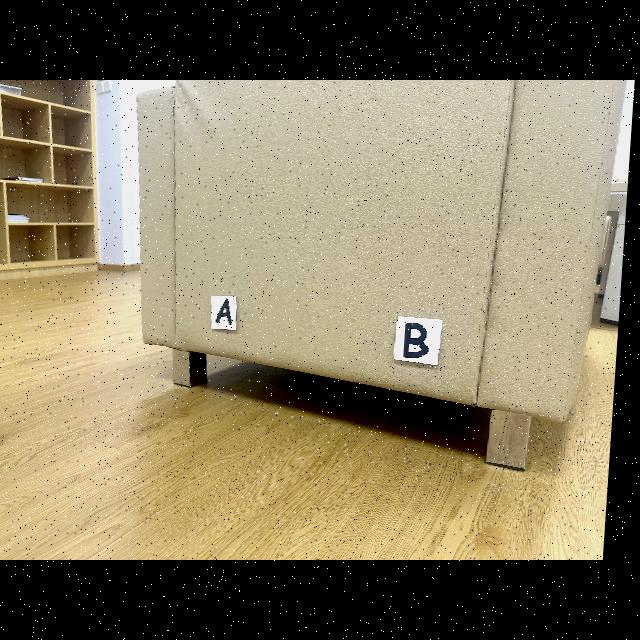A: (219, 299, 237, 324)
B: (409, 323, 433, 359)
